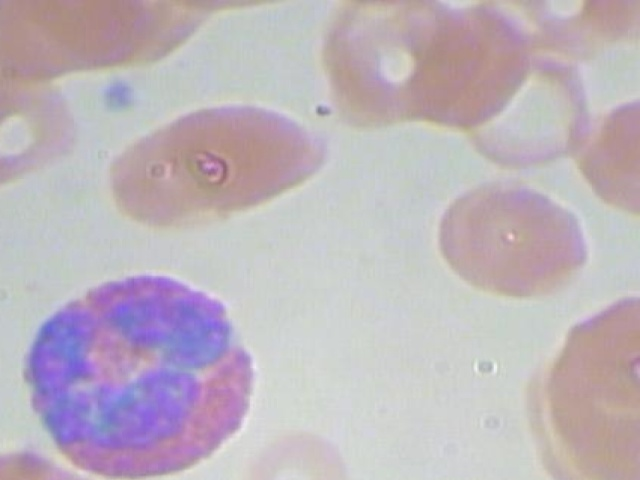Platelets: (87, 72, 144, 117)
RBC: (297, 0, 491, 129), (155, 91, 326, 221), (93, 120, 264, 250), (441, 33, 589, 170), (453, 171, 597, 301), (432, 168, 528, 296), (548, 287, 640, 417), (0, 67, 86, 198), (5, 0, 162, 68), (477, 0, 625, 60), (235, 419, 380, 480), (577, 91, 640, 221), (0, 442, 154, 480), (566, 0, 640, 60)
WBC: (5, 260, 278, 480)
